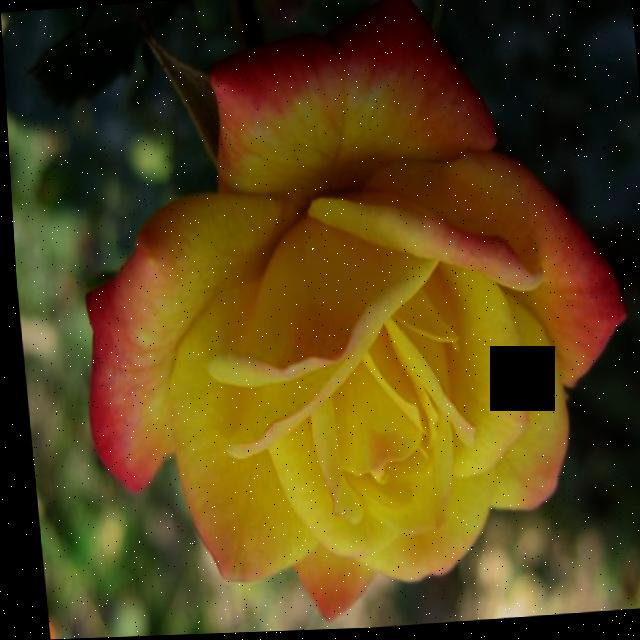rose: (32, 0, 640, 639)
